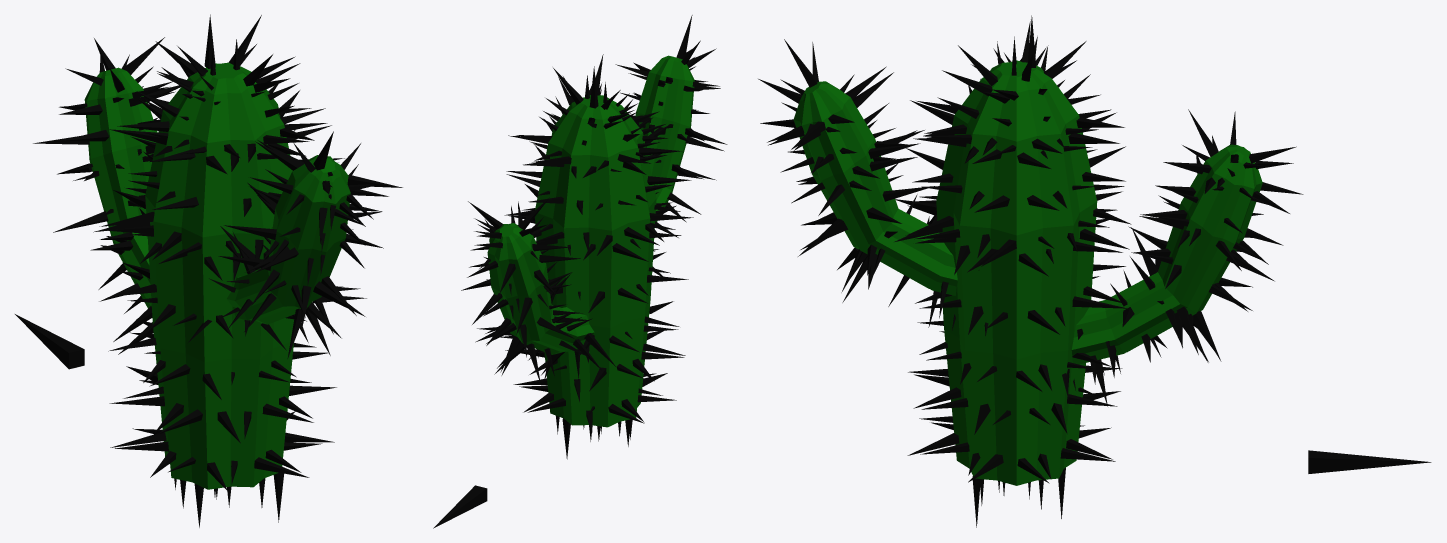
The model's file is cactus.fbx.
The picture shows the model from 3 angles, left to right: view 1: azimuth 30°, elevation 25°; view 2: azimuth 150°, elevation 25°; view 3: azimuth 270°, elevation 25°; orthographic projection. The views are drawn at different scales.
Parts seen in each view (by area): view 1: Cylinder, Cube; view 2: Cylinder, Cube; view 3: Cylinder, Cube.
Part boxes in pixels (x1,y1,x2,y2): Cylinder: [84, 62, 350, 489]; Cube: [15, 314, 84, 369]; Cylinder: [487, 55, 694, 427]; Cube: [433, 485, 487, 528]; Cylinder: [793, 60, 1262, 485]; Cube: [1308, 450, 1431, 473].
Size of the model in its own units: 338 by 755 by 930.
